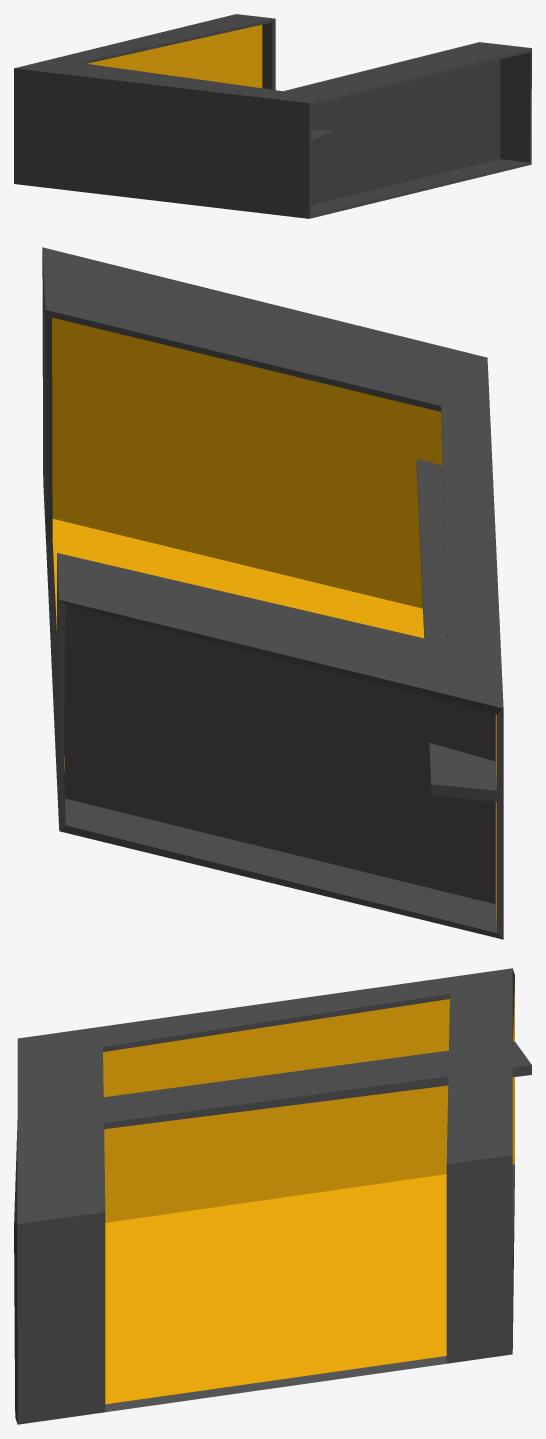
Rendered from building4.fbx.
3 views of the same model, one above another, from view 1: azimuth 30°, elevation 25°; view 2: azimuth 150°, elevation 25°; view 3: azimuth 270°, elevation 25° (orthographic). The views are drawn at different scales.
Parts seen in each view (by area): view 1: Cube.004; view 2: Cube.004; view 3: Cube.004.
Boxes of the visible parts, <box> form: Cube.004: <box>14,14,531,218</box>; Cube.004: <box>42,247,503,939</box>; Cube.004: <box>14,968,531,1424</box>.
Bounding box in the file's own units: 13.28 × 5.07 × 9.23.
